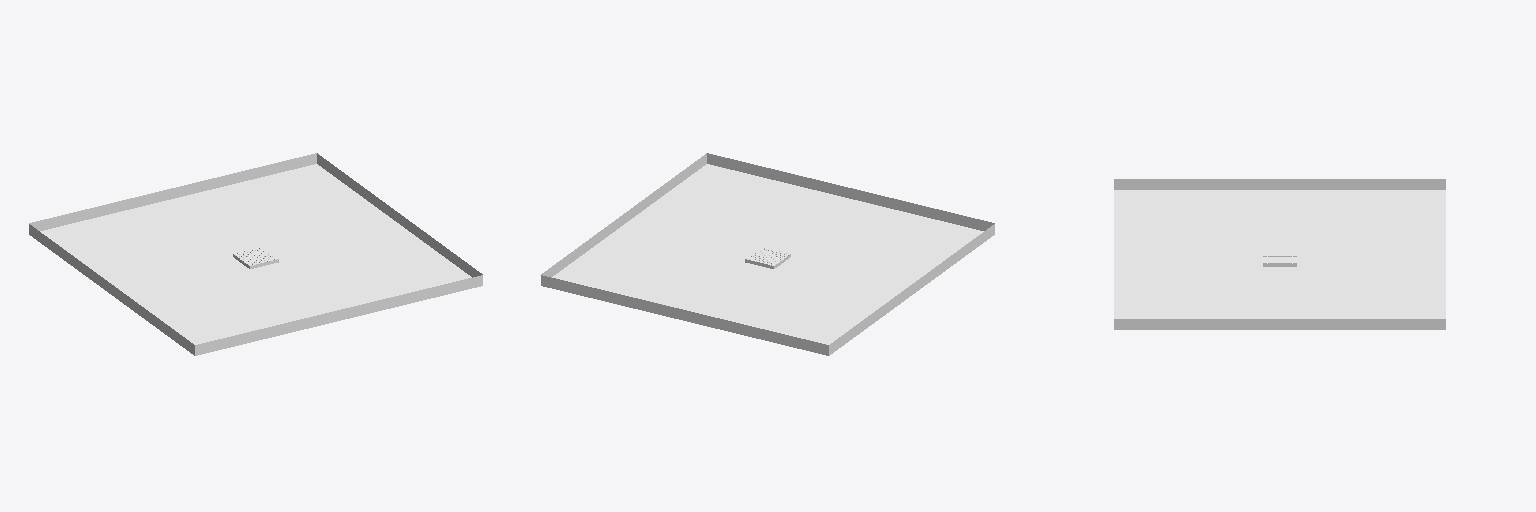
The model's file is BlockGame.obj.
3 renders of one model, left to right at view 1: azimuth 30°, elevation 25°; view 2: azimuth 150°, elevation 25°; view 3: azimuth 270°, elevation 25°, orthographic.
Visible parts, largest first — view 1: Cube_Cube.001; view 2: Cube_Cube.001; view 3: Cube_Cube.001.
Part boxes in pixels (bbox=[...]): Cube_Cube.001: bbox=[29, 153, 482, 355]; Cube_Cube.001: bbox=[541, 153, 994, 355]; Cube_Cube.001: bbox=[1114, 179, 1445, 329].
Size of the model in its own units: 80 by 3.66 by 80.